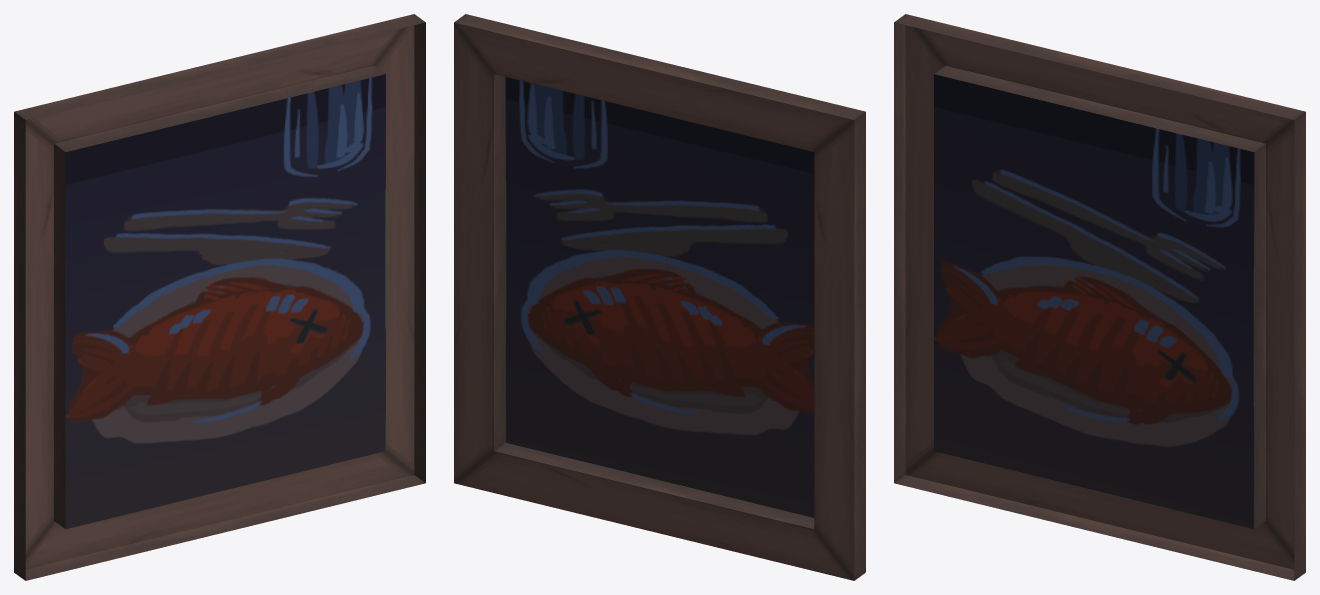
The model's file is small_painting_3.fbx.
3 renders of one model, left to right at view 1: azimuth 30°, elevation 25°; view 2: azimuth 150°, elevation 25°; view 3: azimuth 330°, elevation 25°, orthographic.
Parts seen in each view (by area): view 1: small_painting_3; view 2: small_painting_3; view 3: small_painting_3.
Boxes of the visible parts, box(x1,y1,x2,y2) form: small_painting_3: box(14, 14, 425, 580); small_painting_3: box(454, 14, 865, 580); small_painting_3: box(894, 14, 1305, 580).
Bounding box in the file's own units: 2 × 0.1 × 2.2.
